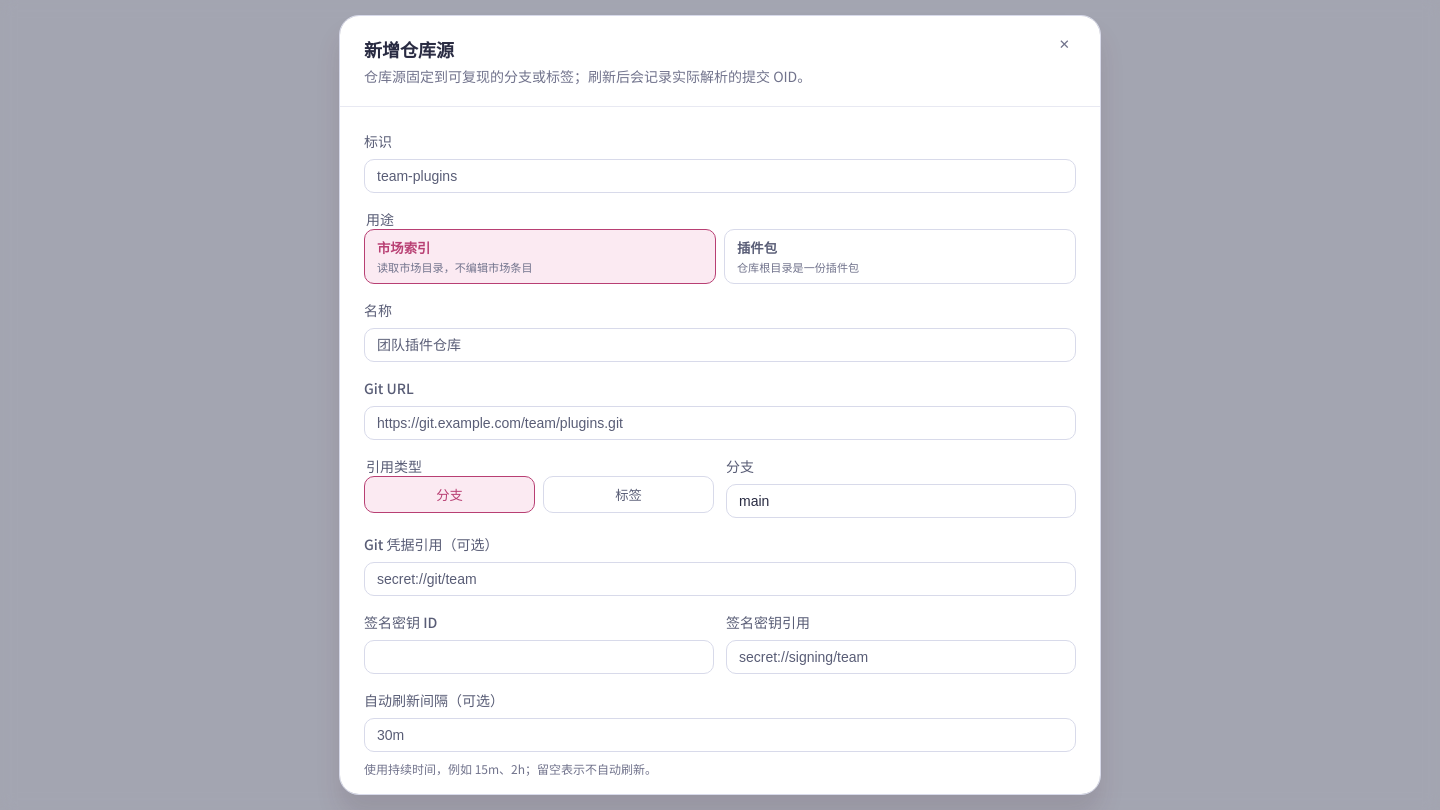
Scenario: RepositorySourceForm › requires signer identity and its write-only reference for a new source
Type "team-market" into the field with id "repository-id" at (720, 176), box [364,159,1076,193]
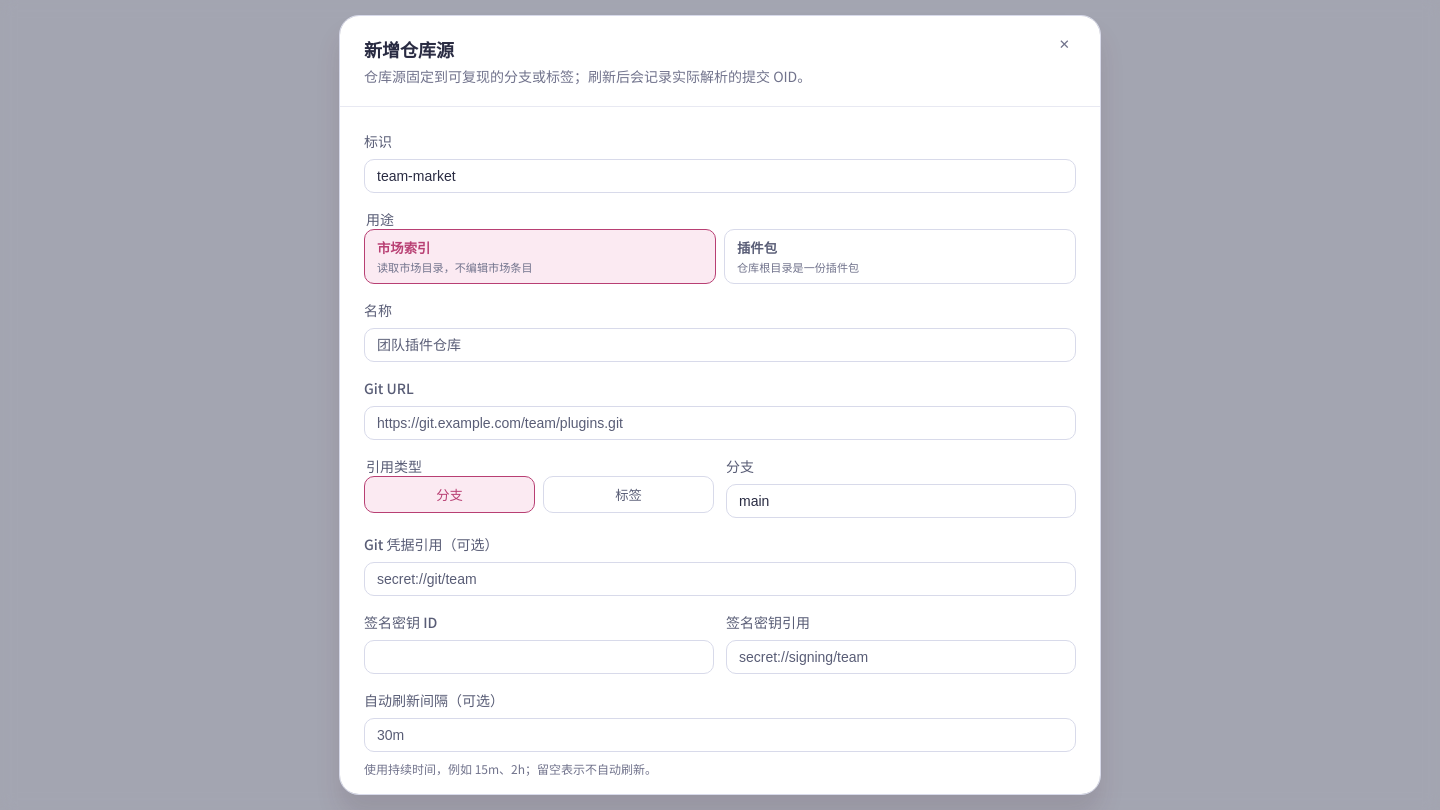
Type "Team Market" into the field with id "repository-name" at (720, 345), box [364,328,1076,362]
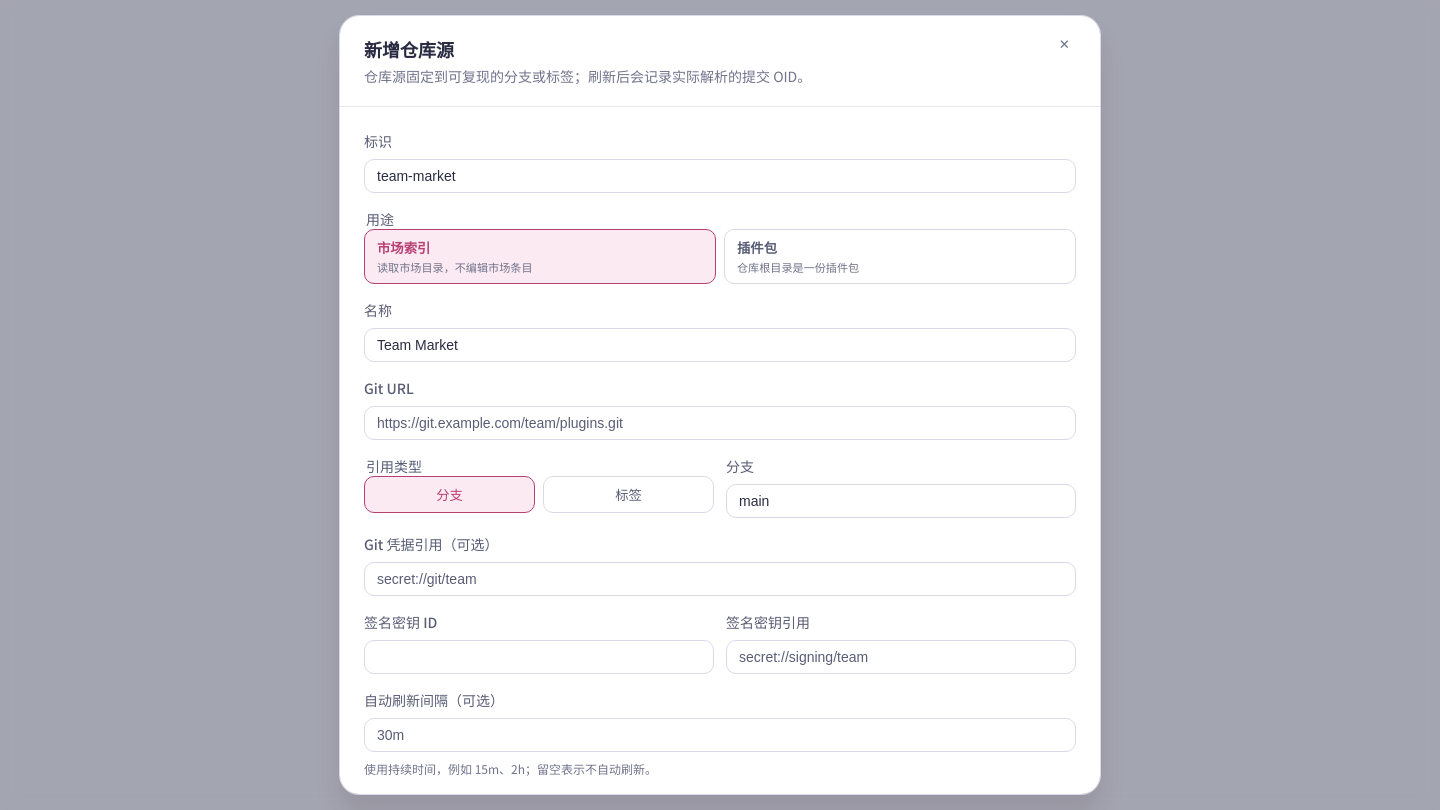
Type "https://git.example.com/team/market.git" into the field with id "repository-url" at (720, 423), box [364,406,1076,440]
(page scrolled)
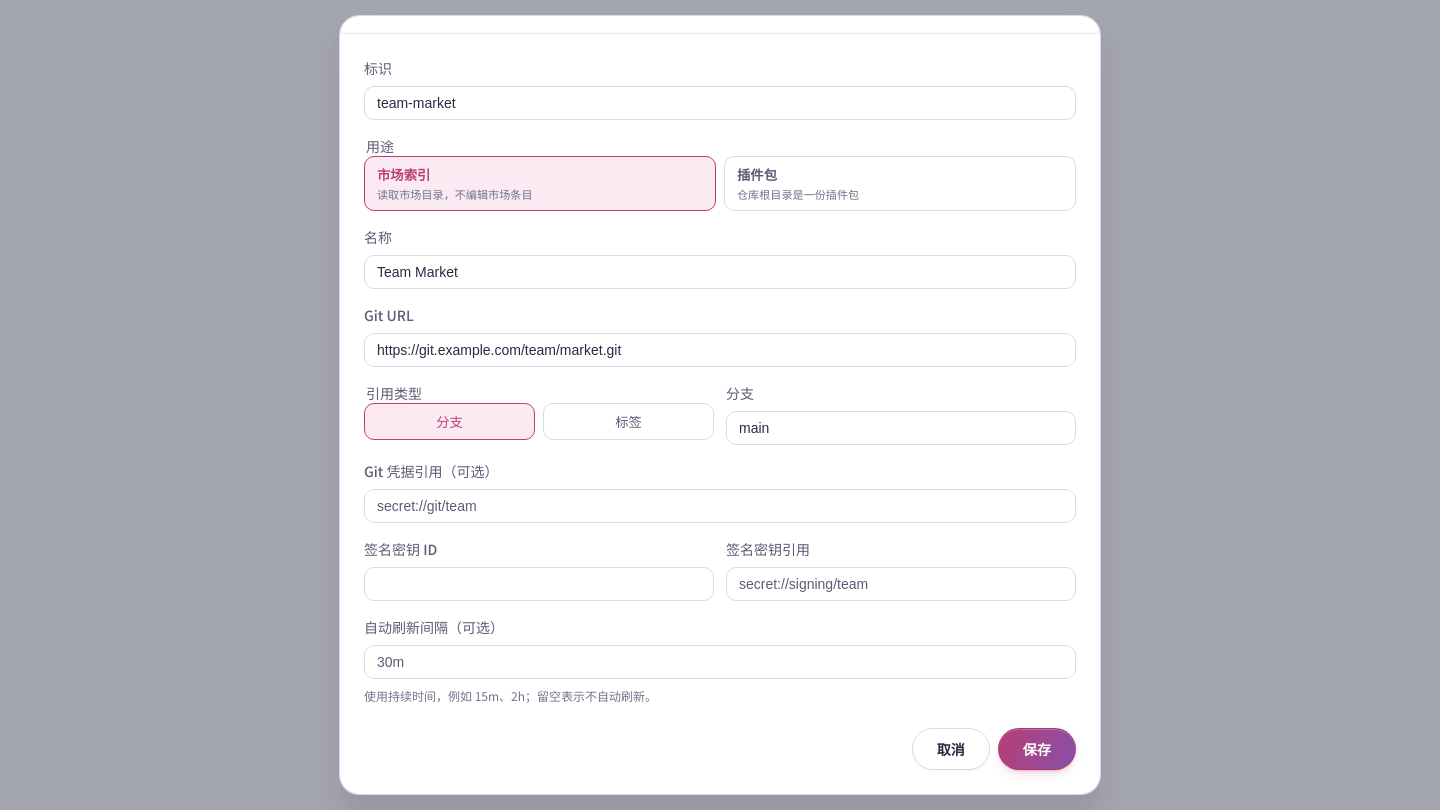
Submit the form, box [340,34,1100,794]
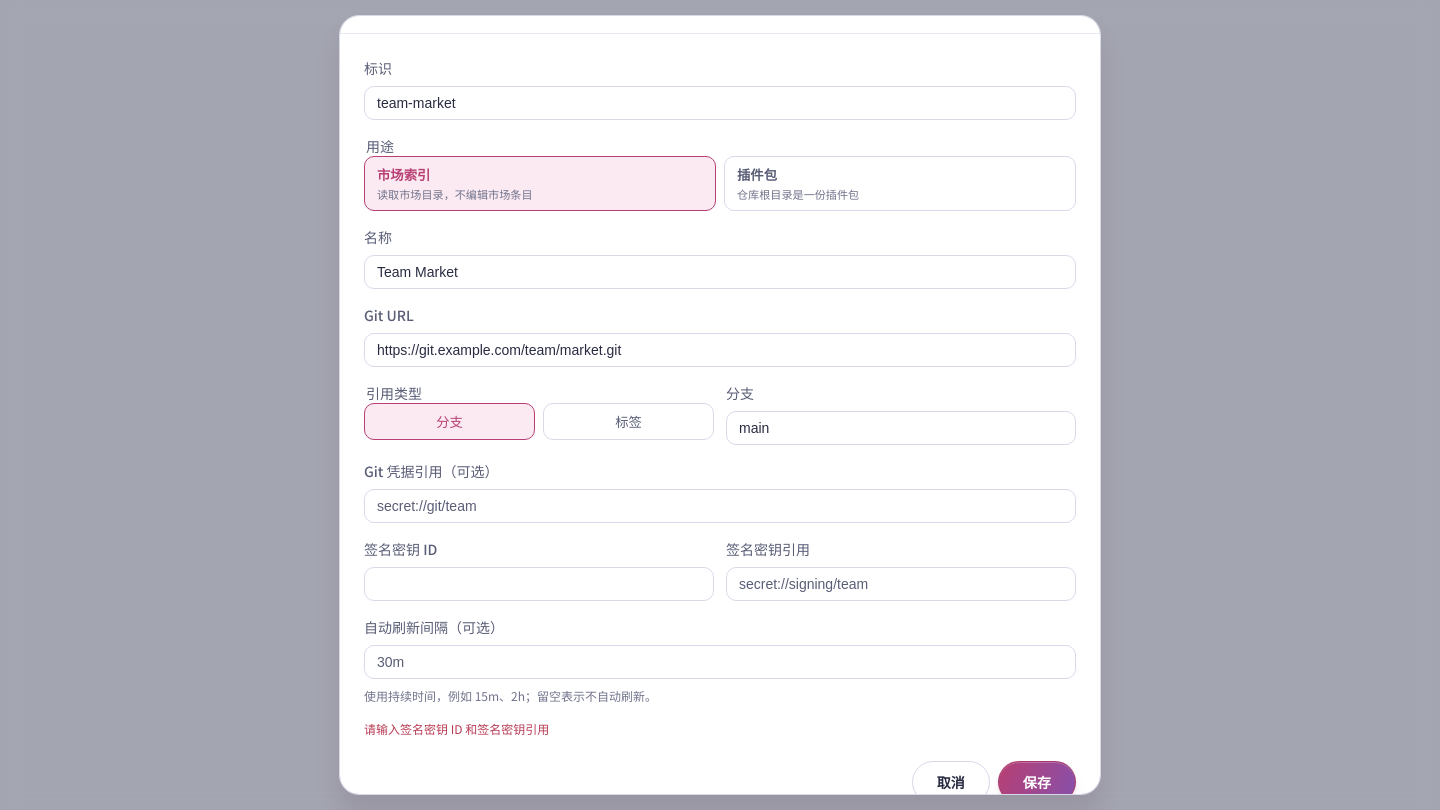
Check: the text "请输入签名密钥 ID 和签名密钥引用" is shown, box [364,720,549,737]
